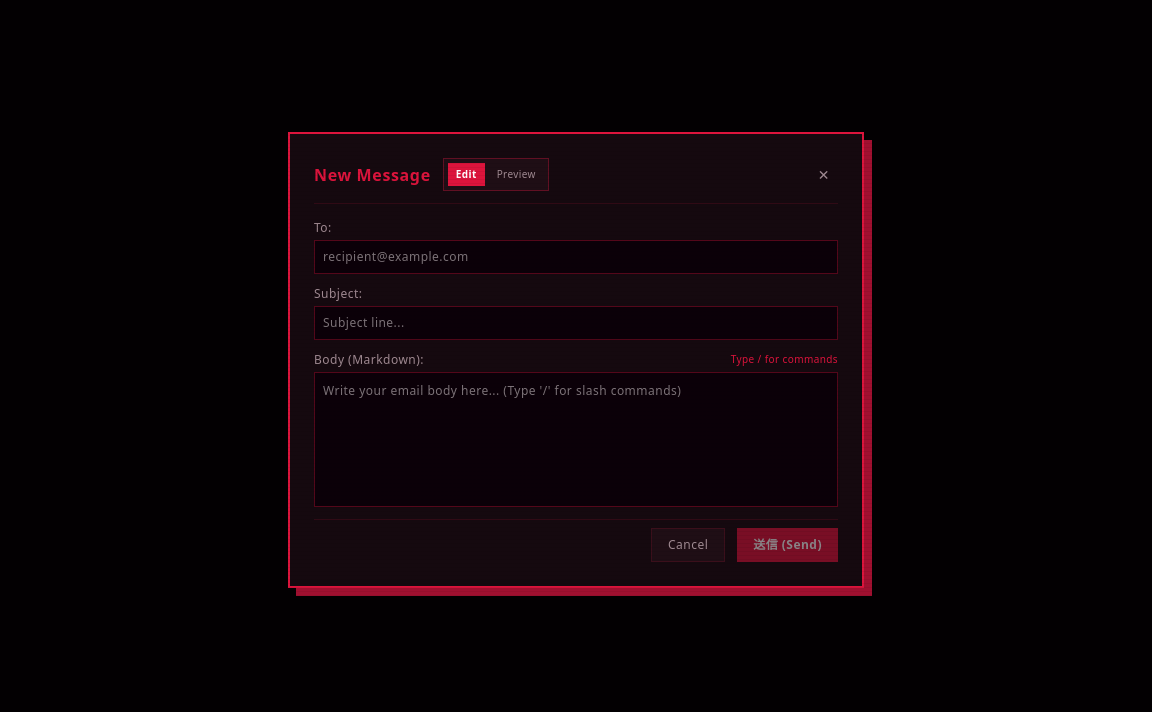
Scenario: MailComposeModal Stress & Boundary Tests › 4. Esc Key Hierarchy & Hotkey Handling › allows navigating slash command menu options with ArrowDown, ArrowUp, and selecting with Enter
In the text box with test id "compose-body-textarea": {"x": 576, "y": 440} [314, 372, 838, 507], type "/"
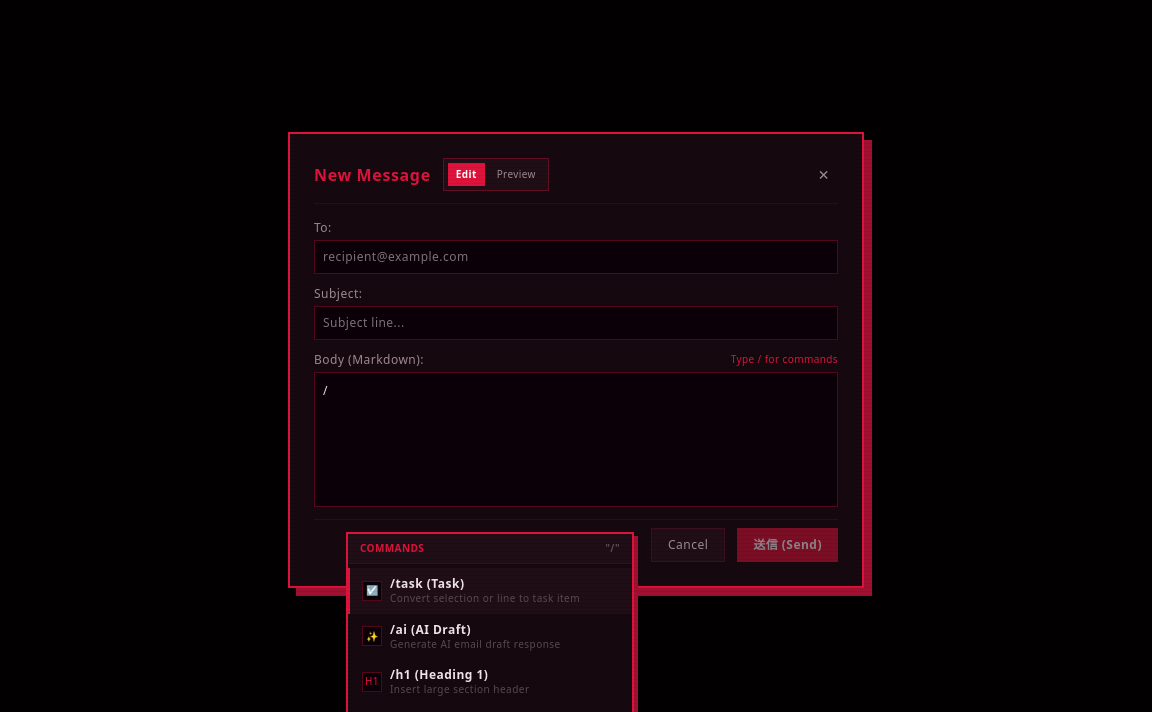
Note: Press ArrowDown to select second option (/ai)
Press ArrowDown
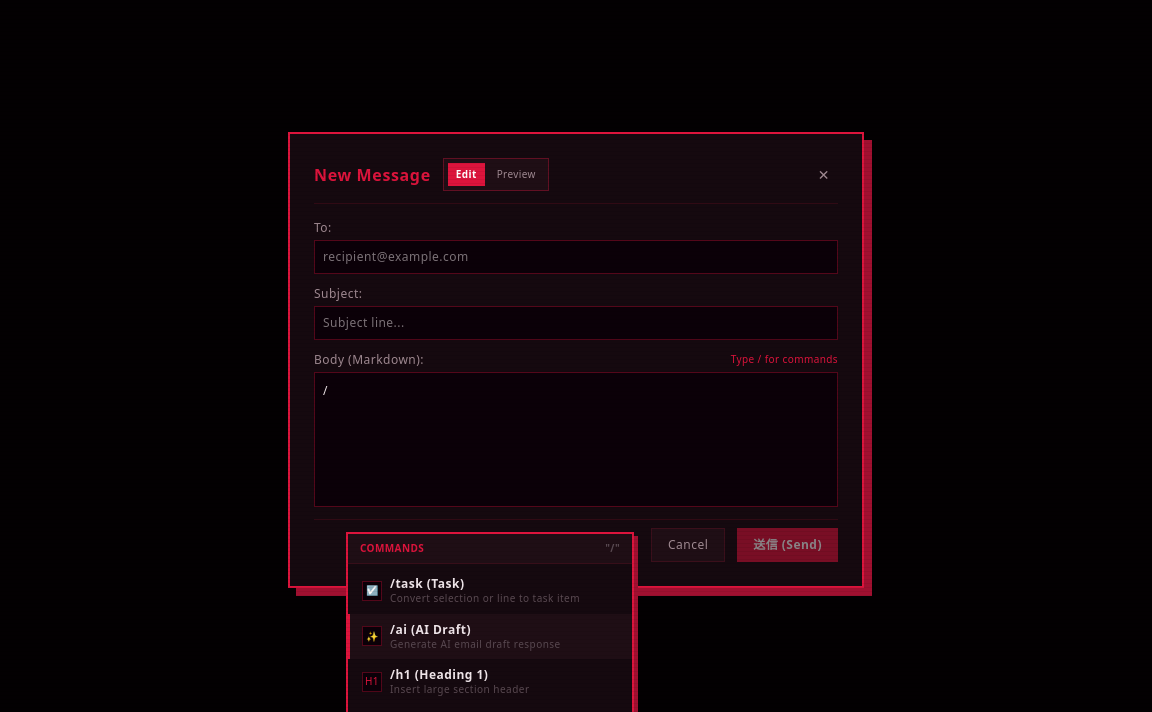
Note: Press Enter to select option
Press Enter
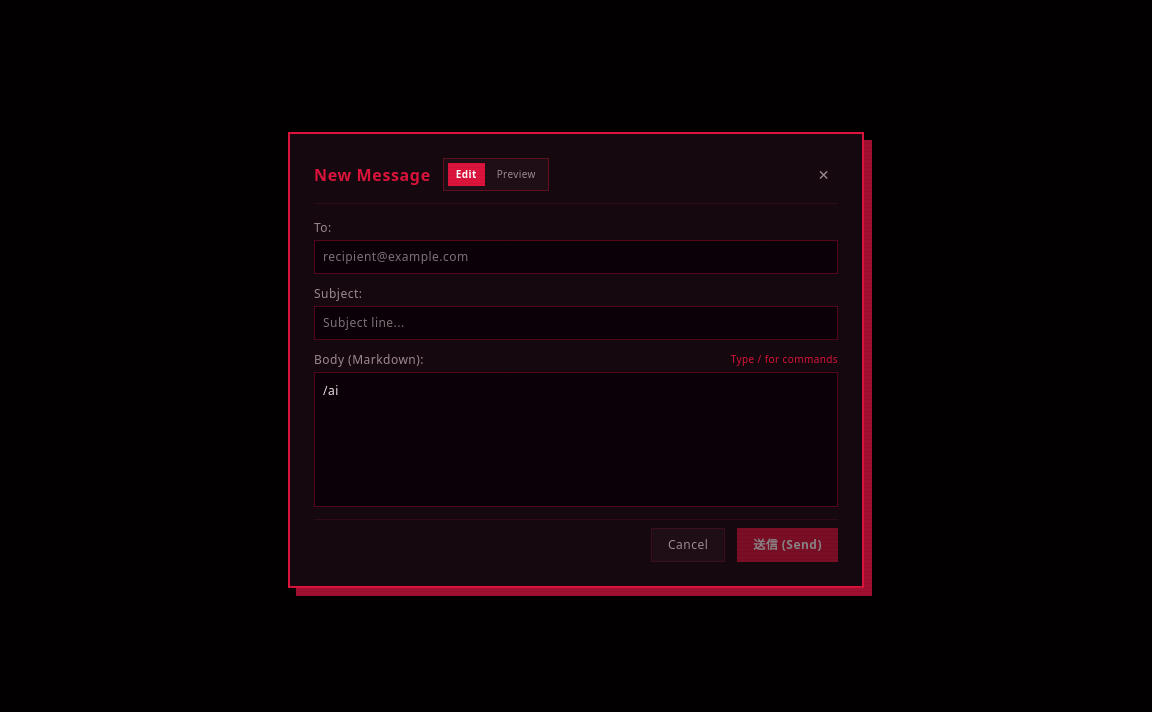
Check: the text box with test id "compose-body-textarea" holds "/ai ", box [314, 372, 838, 507]
